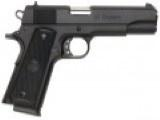gun: (1, 2, 156, 114)
